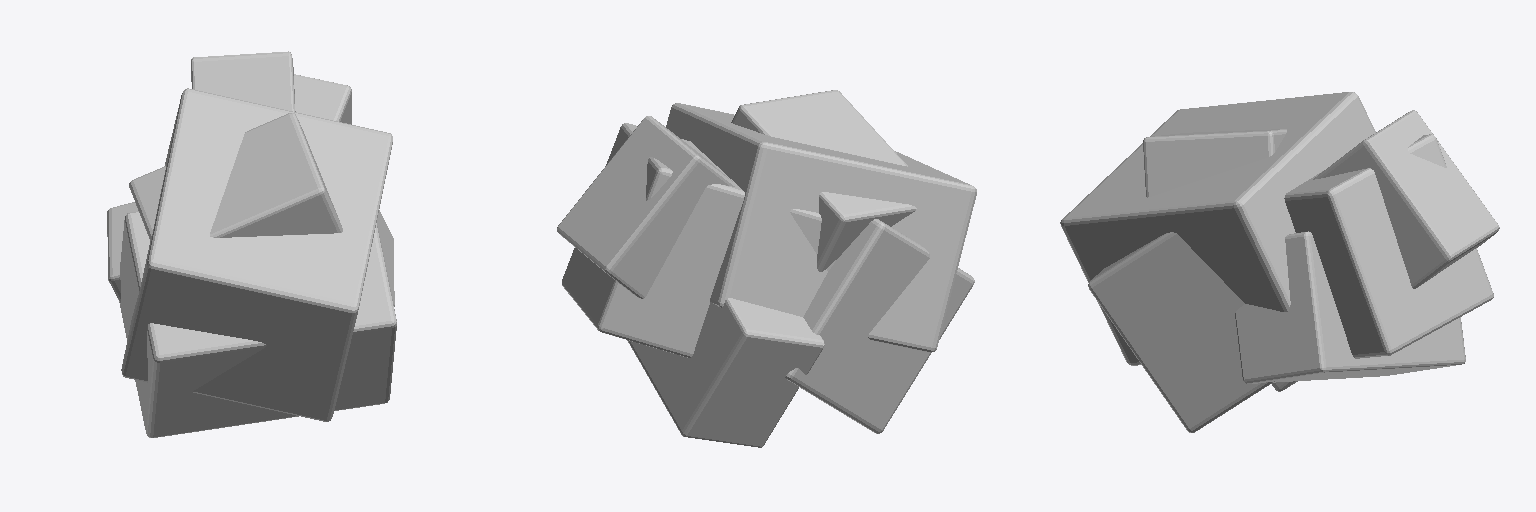
Rendered from RUBY_CUBE.obj.
3 renders of one model, left to right at view 1: azimuth 30°, elevation 25°; view 2: azimuth 150°, elevation 25°; view 3: azimuth 270°, elevation 25°, orthographic.
Visible parts, largest first — view 1: Random_0.1; view 2: Random_0.1; view 3: Random_0.1.
Part boxes in pixels (left/top/right/bottom): Random_0.1: left=107, top=51, right=396, bottom=437; Random_0.1: left=557, top=90, right=976, bottom=447; Random_0.1: left=1060, top=92, right=1499, bottom=432.
Bounding box in the file's own units: 62.67 × 58.11 × 75.36.